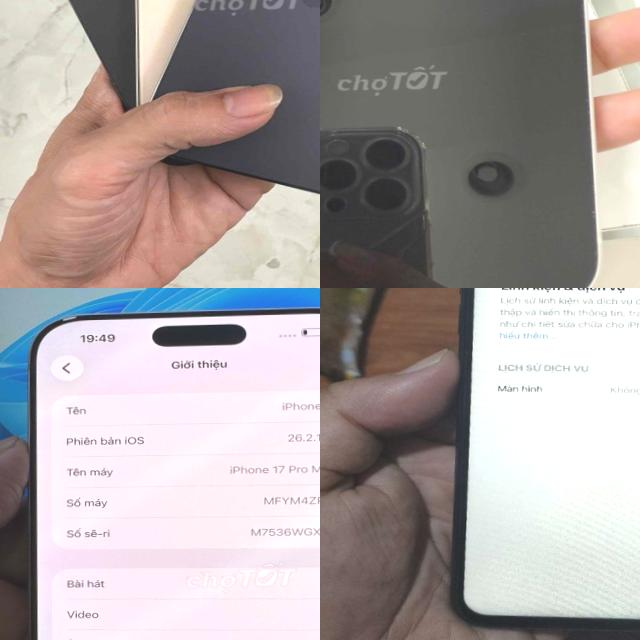gen_11: (451, 288, 640, 628)
gen_14: (320, 0, 608, 288), (151, 0, 320, 204)
gen_17: (24, 300, 320, 640)
